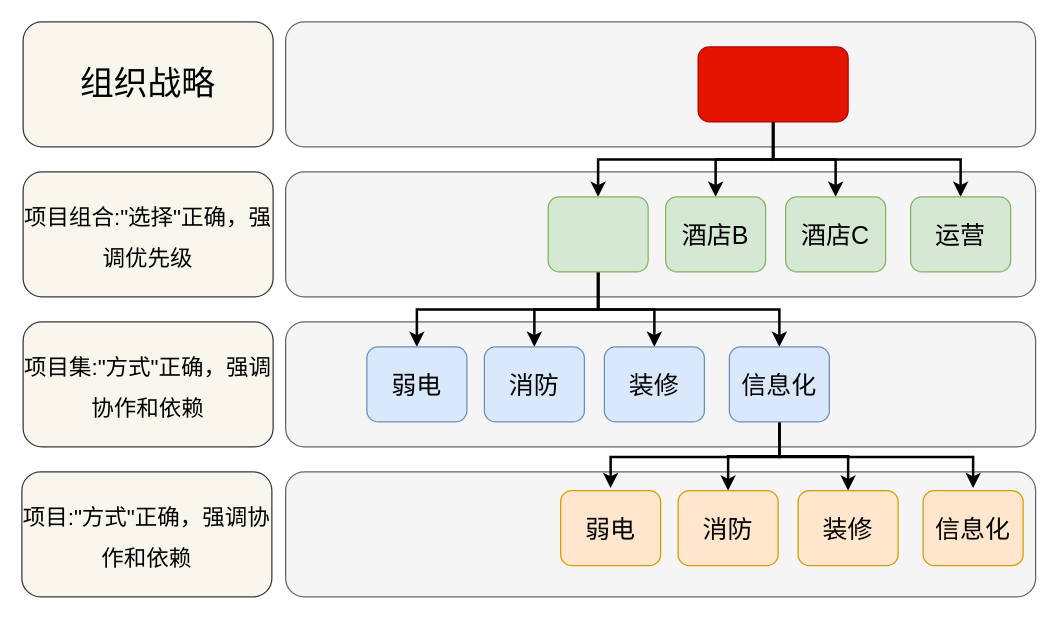
Some shapes in this 1058 by 619 pixel diagram are drawn without their labels. The shapes that lost their labels are listed below. From the top down, each one's centre as x and y in pixels, then its label:
the point at 772,84: 酒店集团
the point at 597,234: 酒店A
